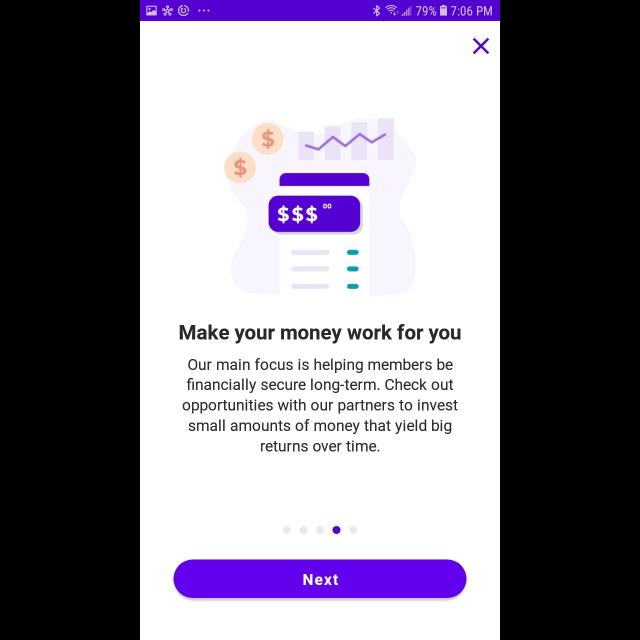icon: (472, 37, 490, 54)
image: (224, 119, 416, 297)
pageindicator: (283, 526, 357, 534)
text: (182, 358, 458, 452), (180, 324, 460, 344)
textbutton: (174, 560, 466, 598)
uppertaskbar: (140, 1, 500, 22)
